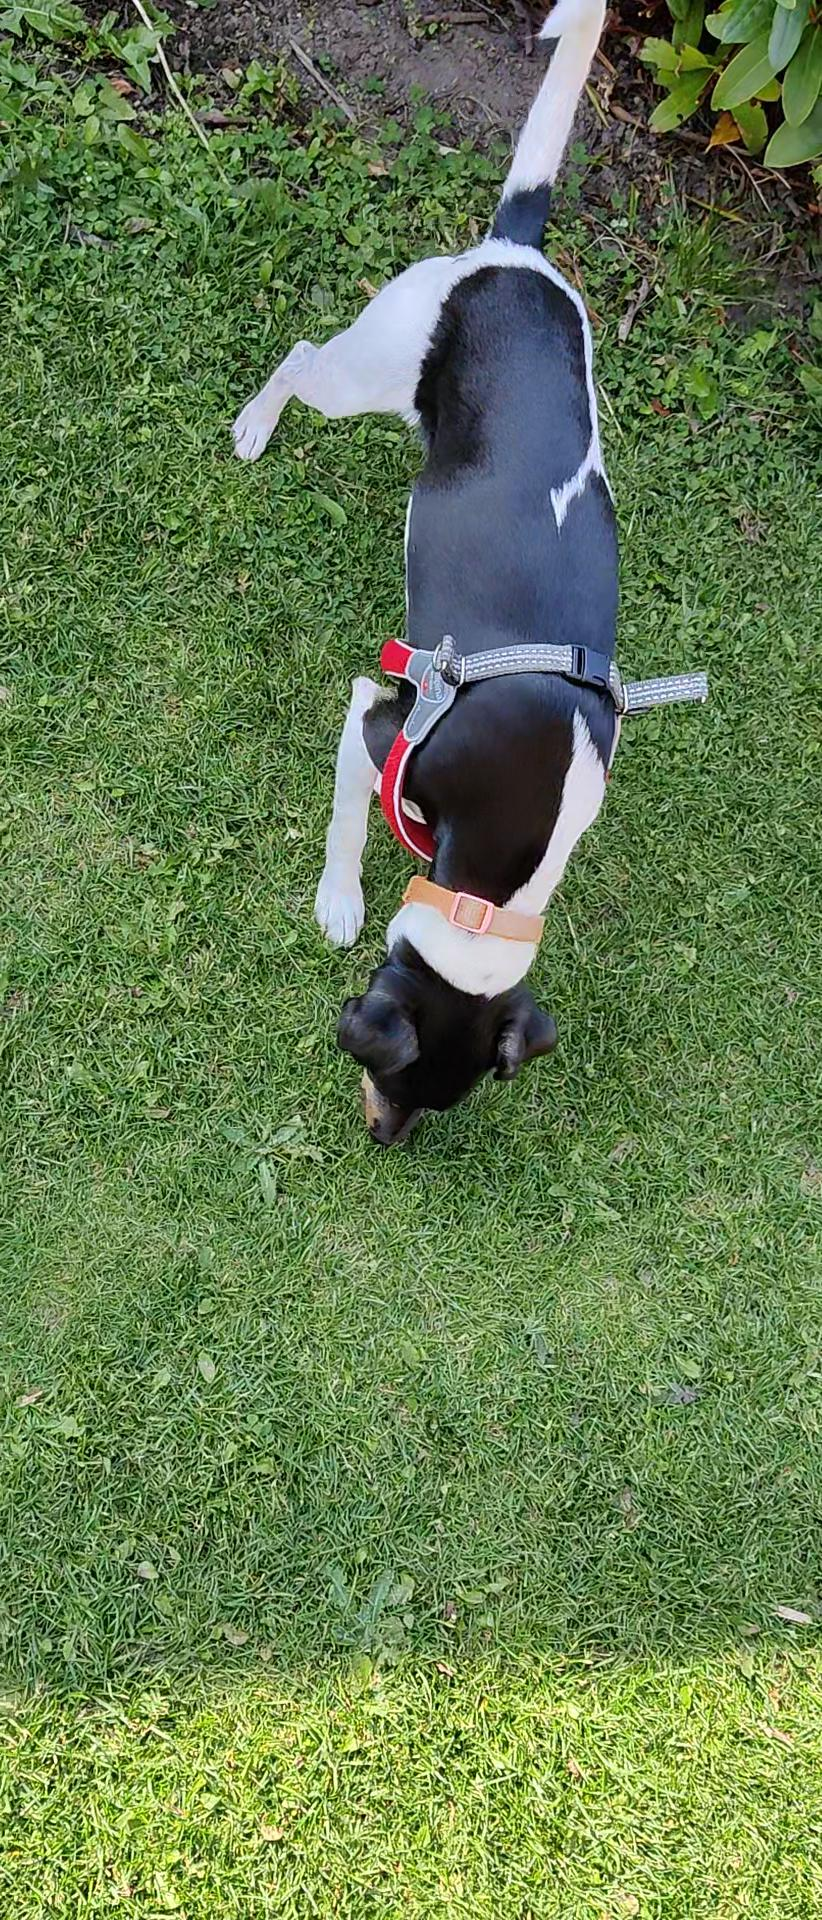Dog: (216, 0, 682, 1169)
